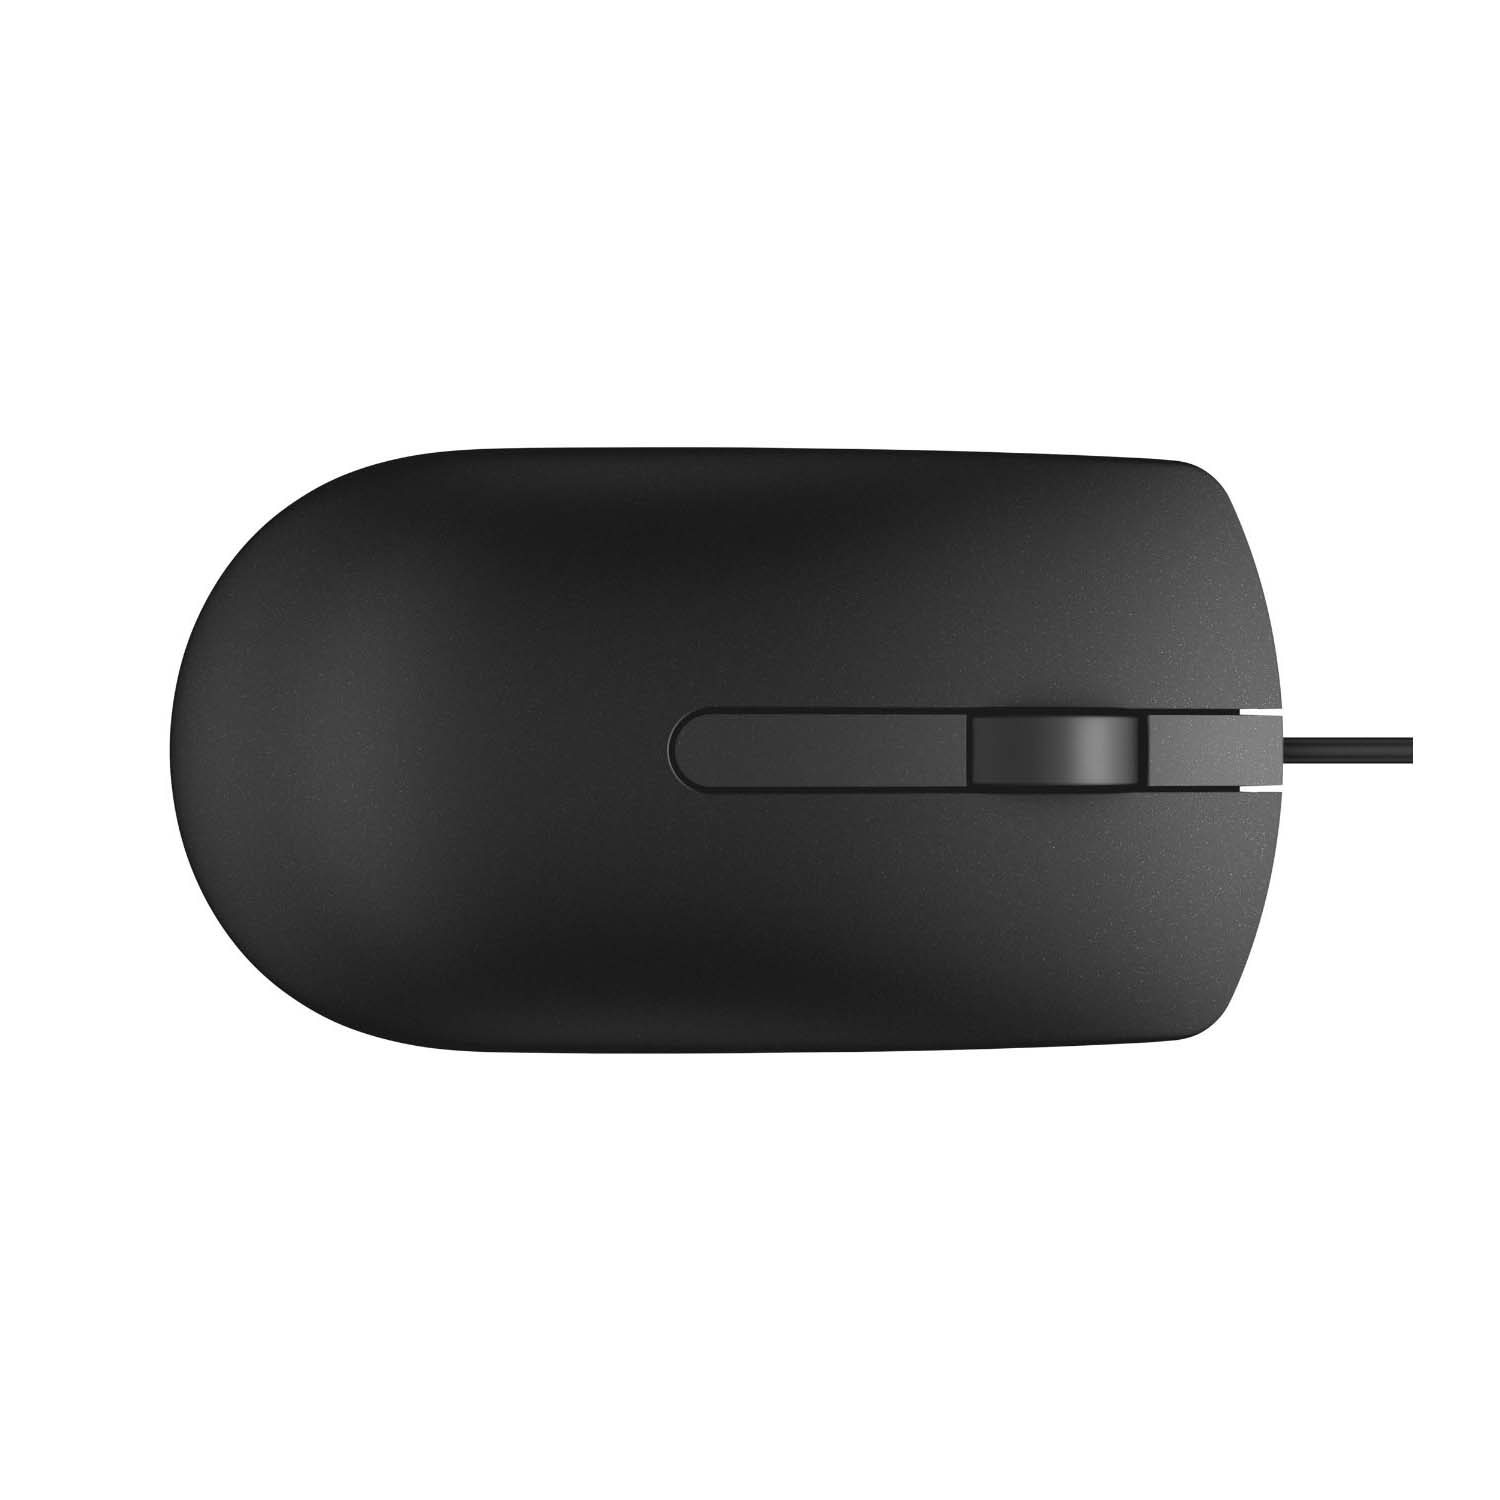dell-mouse-ms116: (139, 418, 1423, 1054)
